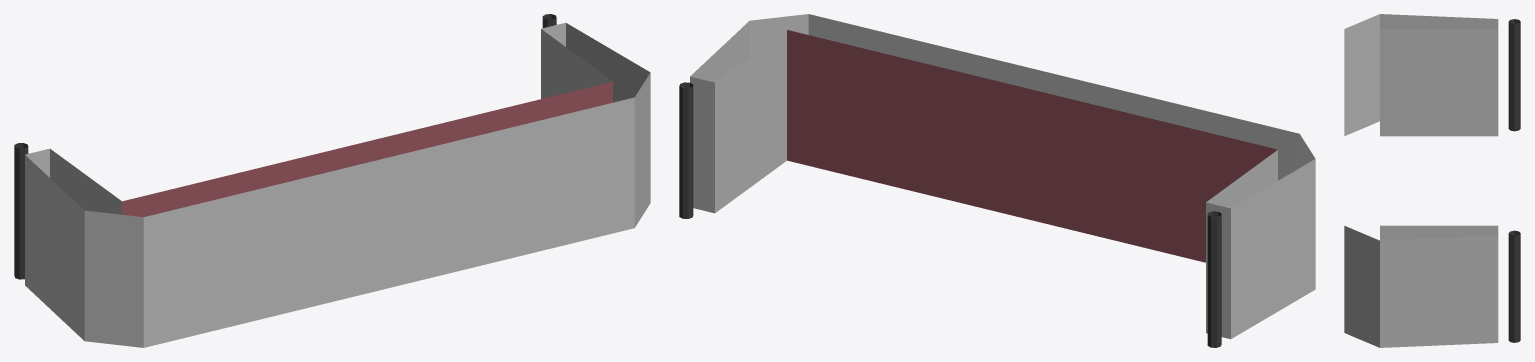
Rendered from bubbleHomePatern.fbx.
3 renders of one model, left to right at view 1: azimuth 30°, elevation 25°; view 2: azimuth 150°, elevation 25°; view 3: azimuth 270°, elevation 25°, orthographic. The views are drawn at different scales.
Visible parts, largest first — view 1: Box; view 2: Box; view 3: Box.
Boxes of the visible parts, x1=… form: Box: x1=14, y1=14, x2=650, y2=347; Box: x1=679, y1=14, x2=1315, y2=347; Box: x1=1344, y1=14, x2=1520, y2=347.
Bounding box in the file's own units: 4.53 × 1 × 1.49.
